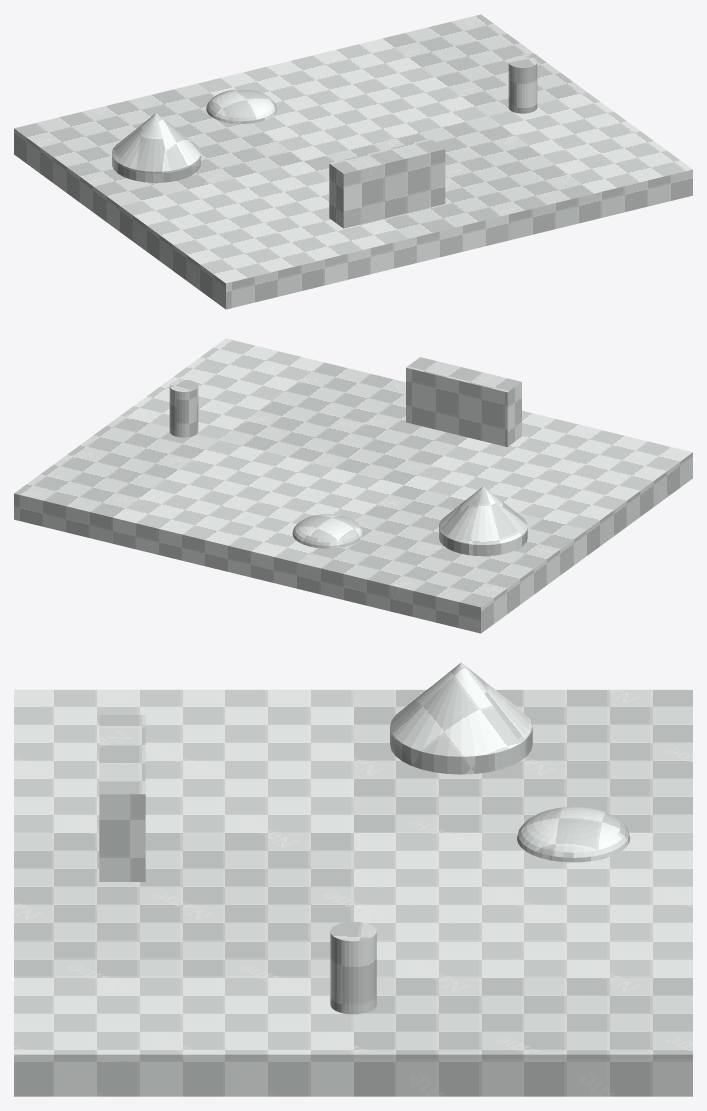
The model's file is test_level.gltf.
The picture shows the model from 3 angles, top to bottom: view 1: azimuth 30°, elevation 25°; view 2: azimuth 150°, elevation 25°; view 3: azimuth 270°, elevation 25°; orthographic projection. The views are drawn at different scales.
Visible parts, largest first — view 1: Cube, Cube.001, Cylinder.001, Sphere, Cylinder; view 2: Cube, Cube.001, Cylinder.001, Sphere, Cylinder; view 3: Cube, Cylinder.001, Cube.001, Sphere, Cylinder.
Boxes of the visible parts, left/top/right/bottom form: Cube: left=14, top=14, right=692, bottom=309; Cube.001: left=329, top=138, right=445, bottom=228; Cylinder.001: left=112, top=113, right=200, bottom=182; Sphere: left=206, top=89, right=276, bottom=123; Cylinder: left=508, top=56, right=537, bottom=113; Cube: left=14, top=338, right=692, bottom=633; Cube.001: left=406, top=357, right=521, bottom=446; Cylinder.001: left=439, top=486, right=527, bottom=556; Sphere: left=292, top=514, right=363, bottom=548; Cylinder: left=169, top=380, right=198, bottom=437; Cube: left=14, top=689, right=692, bottom=1096; Cylinder.001: left=390, top=662, right=532, bottom=774; Cube.001: left=99, top=715, right=145, bottom=881; Sphere: left=517, top=806, right=630, bottom=862; Cylinder: left=330, top=921, right=376, bottom=1014.
Size of the model in its own units: 37.4 by 7.28 by 29.4.
1 material, 1 textured.
